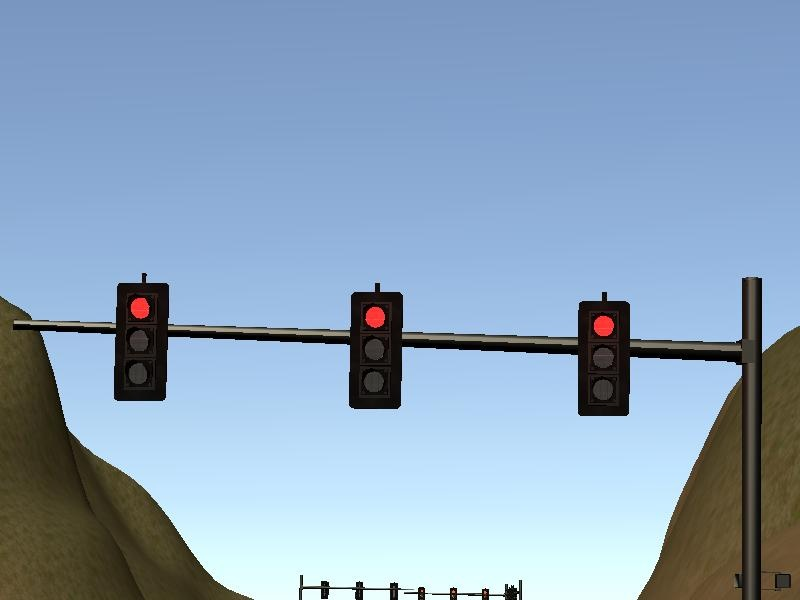RED: (114, 282, 169, 401), (349, 291, 404, 410), (575, 299, 630, 418)
